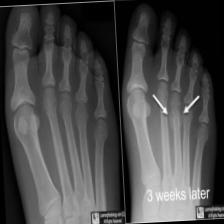stress-fracture: (0, 0, 119, 224), (116, 0, 223, 223)
